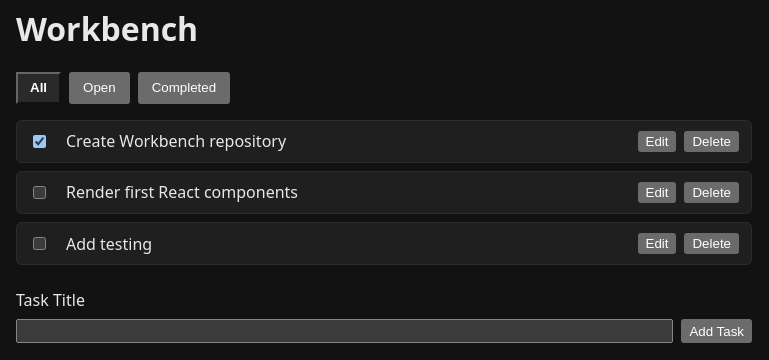
Scenario: open shows only incomplete tasks
Step 1. Click the button "Open" → coordinates (99, 88), box [69,72,130,104]
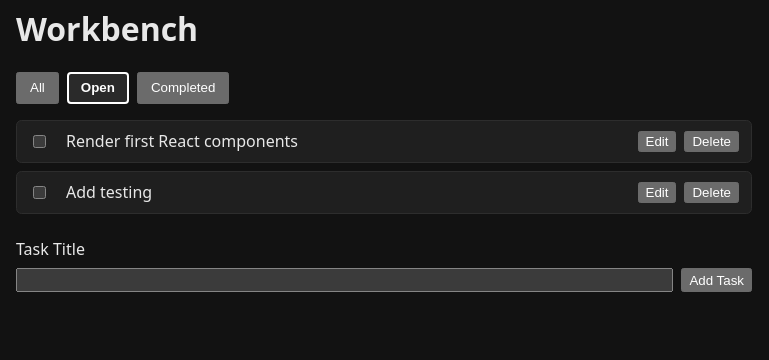
Expected: the checkbox labelled "Render first React components" is shown, [33,135,46,148]
Now the label "Create Workbench repository" is gone
